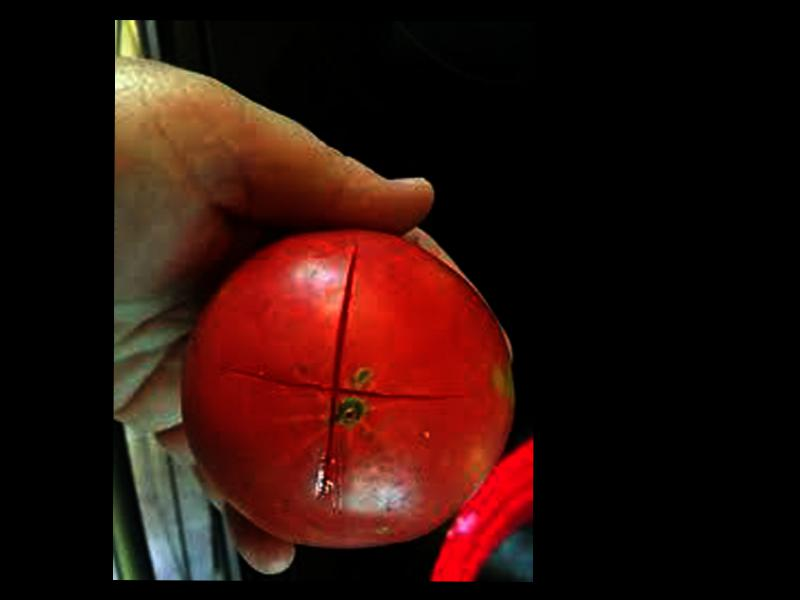Tomato: (180, 225, 514, 552)
